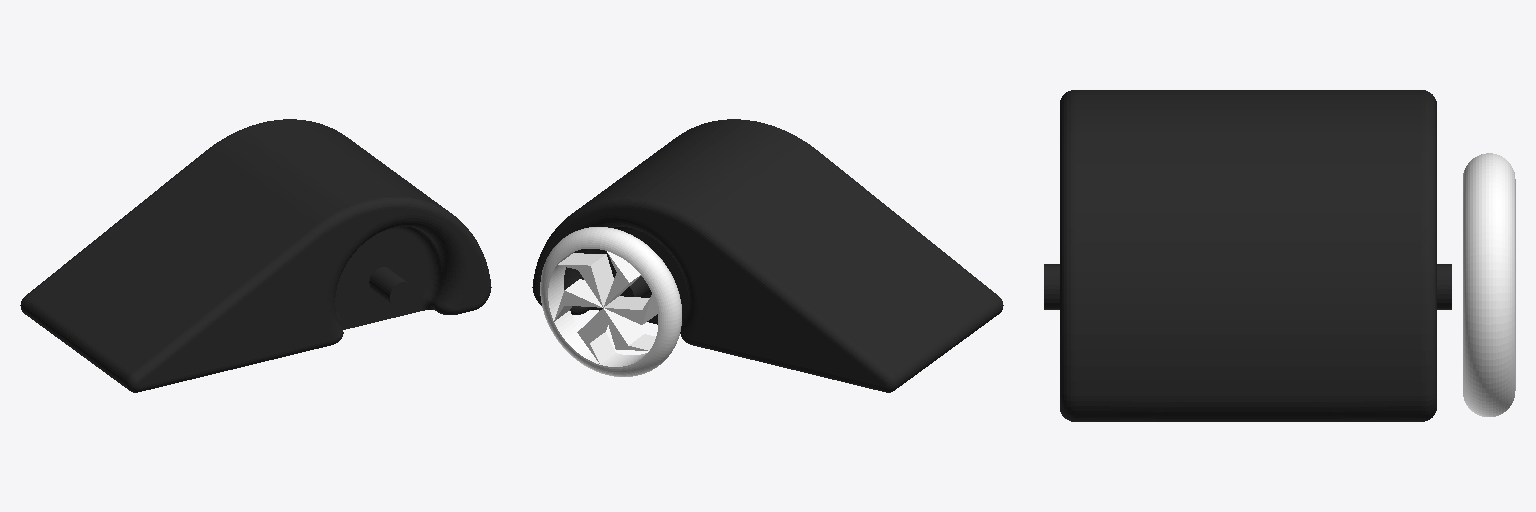
URDF robot description (robot):
<robot name="robot">

    <link name="base_footprint"/>
    <link name="base">

      <inertial>
        <mass value="2" />
        <origin xyz="0 0 0.1" rpy="0 0 0" />
        <inertia ixx="0.004" iyy="0.006" izz="0.007" ixy="0.0" ixz="0.0" iyz="0.0" />
      </inertial>

      <visual>
        <geometry>
            <mesh filename="package://robot/meshes/base_link.stl"/>
        </geometry>
        <material name="gray">
          <color rgba=".2 .2 .2 1" />
        </material>
      </visual>

      <collision>
        <geometry>
          <mesh filename="package://robot/meshes/base_link.stl"/>
      </geometry>
        <contact_coefficients mu="1" mu2="1" kp="1e+13.0" kd="1.0"/>
      </collision>


    </link>
   <joint name="base_joint" type="fixed">
      <parent link="base_footprint"/>
      <child link="base"/>
      <origin rpy="0 0 0" xyz="0 0 0.019"/>
    </joint>


 <link name="wheel_right">
    <inertial>
      <mass value="0.75"/>
      <inertia ixx="0.0001444223" iyy="0.000280875" izz="0.0001444223" ixy="0.0" ixz="0.0" iyz="0.0"/>
      <origin/>
    </inertial>

      <visual>

        <geometry>
            <mesh filename="package://robot/meshes/wheel_r.stl"/>
        </geometry>

        <material name="white">
          <color rgba="1 1 1 1"/>
        </material>
      </visual>

      <collision>
        <geometry>
            <mesh filename="package://robot/meshes/wheel_r.stl"/>
        </geometry>
        <contact_coefficients mu="0" kp="1000.0" kd="1.0"/>
      </collision>

    </link>

    <joint name="wheel_right_joint" type="continuous">
      <origin xyz="0.003 0.029 -0.0015" rpy="0 0.0 0.0"/>
      <parent link="base"/>
      <child link="wheel_right"/>
      <axis xyz="0 -1.0 0"/>
    </joint>

    <link name="wheel_left">
      <inertial>
        <mass value="0.75"/>
        <inertia ixx="0.0001444223" iyy="0.000280875" izz="0.0001444223" ixy="0.0" ixz="0.0" iyz="0.0" />
        <origin/>
      </inertial>

      <visual>

        <geometry>
            <mesh filename="package://robot/meshes/wheel_l.stl"/>
        </geometry>

        <material name="white">
          <color rgba="1 1 1 1"/>
        </material>
      </visual>

      <collision>
        <geometry>
            <mesh filename="package://robot/meshes/wheel_l.stl"/>
        </geometry>
        <contact_coefficients mu="0" kp="1000.0" kd="1.0"/>
      </collision>
    </link>

    <joint name="wheel_left_joint" type="continuous">
      <origin xyz="0.003 -0.029 -0.0015" rpy="0 0.0 0"/>
      <parent link="base"/>
      <child link="wheel_left"/>
      <axis xyz="0 1 0"/>

    </joint>


    <link name="caster">

      <inertial>
        <mass value="0.75"/>
        <inertia ixx="0.00006475" iyy="0.00006475" izz="0.00006475" ixy="0.0" ixz="0.0" iyz="0.0" />
        <origin/>
      </inertial>

      <visual>
        <geometry>
          <mesh filename="package://robot/meshes/front_caster.stl"/>
      </geometry>
        <material name="black"/>
      </visual>

      <collision>
        <geometry>
          <mesh filename="package://robot/meshes/front_caster.stl"/>
      </geometry>
        <contact_coefficients mu="0" kp="1000.0" kd="1.0"/>
      </collision>
    </link>

    <joint name="caster_joint" type="continuous">
      <origin xyz="-0.05  0 -0.0159" rpy="0.0 0.0 0.0"/>
      <axis xyz="0 0 1" />
      <parent link="base"/>
      <child link="caster"/>
    </joint>


  <link name="camera_link">
  </link>

  <joint name="camera_joint" type="fixed">
    <origin xyz="-0.16 0.0 0.08" rpy="0 0.0 3.14"/>
    <parent link="base"/>
    <child link="camera_link"/>
    <axis xyz="0.0 0.0 1.0"/>

</joint>

<material name="black">
  <color rgba="0 0 0 1"/>
</material>


    <gazebo reference="camera_link">
        <sensor type="camera" name="Botcamera">
          <update_rate>30.0</update_rate>
          <camera name="head">
            <horizontal_fov>1.3962634</horizontal_fov>
            <image>
              <width>800</width>
              <height>800</height>
              <format>R8G8B8</format>
            </image>
            <clip>
              <near>0.02</near>
              <far>300</far>
            </clip>
            <noise>
              <type>gaussian</type>
              <mean>0.0</mean>
              <stddev>0.007</stddev>
            </noise>
          </camera>
          <plugin name="camera_controller" filename="libgazebo_ros_camera.so">
            <alwaysOn>true</alwaysOn>
            <updateRate>0.0</updateRate>
            <cameraName>/Botcamera</cameraName>
            <imageTopicName>image_raw</imageTopicName>
            <cameraInfoTopicName>camera_info</cameraInfoTopicName>
            <frameName>camera_link</frameName>
            <hackBaseline>0.07</hackBaseline>
          </plugin>
        </sensor>
        <material>Gazebo/Blue</material>
      </gazebo>




    <gazebo>
      <plugin filename="libgazebo_ros_diff_drive.so" name="gazebo_base_controller">
        <odometry_frame>odom</odometry_frame>
        <commandTopic>cmd_vel</commandTopic>
        <publish_odom>true</publish_odom>
        <publish_odom_tf>true</publish_odom_tf>
        <update_rate>15.0</update_rate>
        <left_joint>wheel_left_joint</left_joint>
        <right_joint>wheel_right_joint</right_joint>
        <wheel_separation>0.8</wheel_separation>
        <wheel_diameter>0.3</wheel_diameter>
        <max_wheel_acceleration>0.7</max_wheel_acceleration>
        <robotBaseFrame>base</robotBaseFrame>

      </plugin>
    </gazebo>


  <gazebo reference="base">
      <material>Gazebo/Black</material>
    </gazebo>
    <gazebo reference="caster">
      <material>Gazebo/Red</material>
    </gazebo>

    <gazebo reference="wheel_right">
      <material>Gazebo/Orange</material>
    </gazebo>
    <gazebo reference="wheel_left">
      <material>Gazebo/Orange</material>
    </gazebo>

  </robot>

--- Facts derived from the render (not from the file) ---
The picture shows the robot from 3 angles, left to right: view 1: azimuth 30°, elevation 25°; view 2: azimuth 150°, elevation 25°; view 3: azimuth 270°, elevation 25°; orthographic projection.
Model robot with 6 links and 5 joints (3 continuous, 2 fixed), rooted at base_footprint, posed all joints at 0.
Links seen in each view (by area): view 1: base; view 2: base, wheel_right; view 3: base, wheel_right.
Link boxes in pixels (x1,y1,x2,y2): base: [20, 119, 491, 392]; base: [532, 119, 1003, 392]; wheel_right: [540, 227, 681, 376]; base: [1044, 90, 1451, 421]; wheel_right: [1463, 153, 1515, 416].
Bounding box of the posed robot: 0.9233 × 0.624 × 0.418 m (x, y, z).
Meshes: 4 distinct files referenced, 4 mesh visuals loaded (4 binary STL).